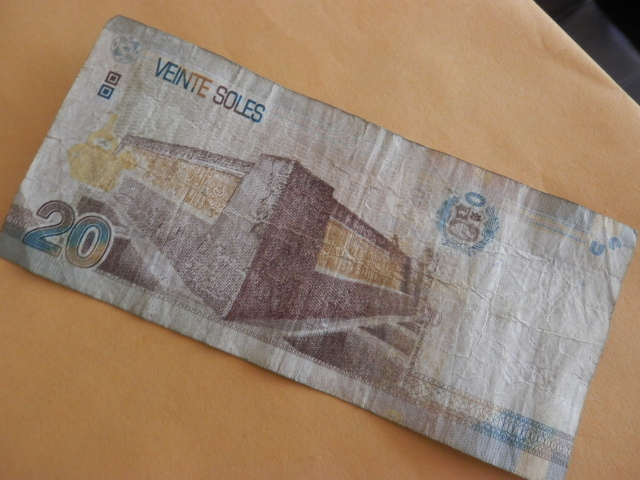B20: (14, 21, 635, 472)
